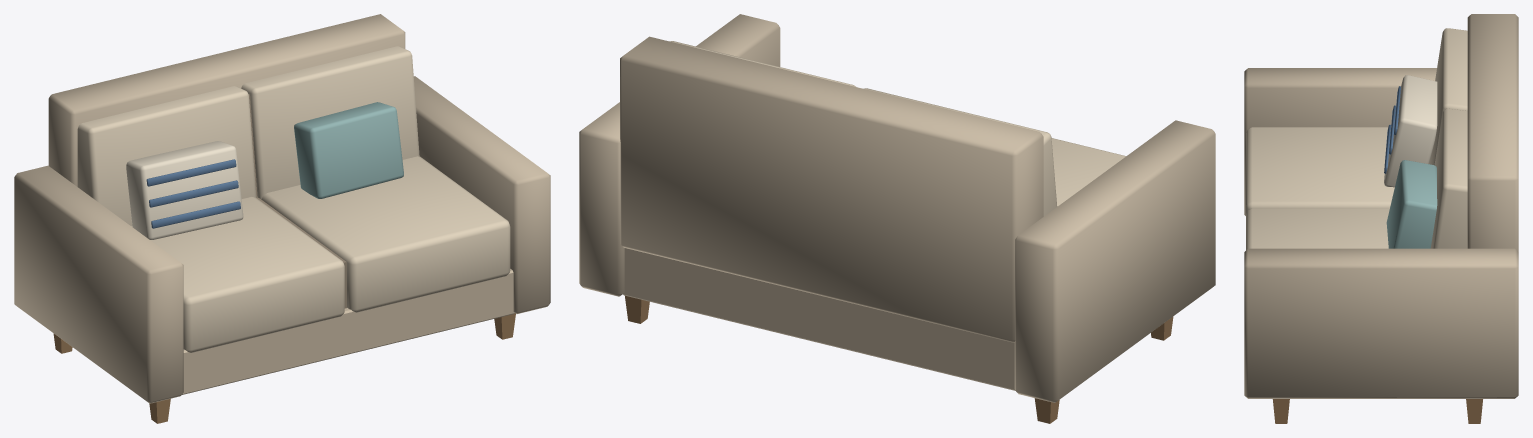
The picture shows the model from 3 angles, left to right: view 1: azimuth 30°, elevation 25°; view 2: azimuth 150°, elevation 25°; view 3: azimuth 270°, elevation 25°; orthographic projection. The views are drawn at different scales.
Parts seen in each view (by area): view 1: F002; view 2: F002; view 3: F002.
Boxes of the visible parts, left/top/right/bottom form: F002: left=14, top=14, right=550, bottom=423; F002: left=579, top=14, right=1215, bottom=423; F002: left=1244, top=14, right=1518, bottom=423.
Bounding box in the file's own units: 1.52 × 0.8636 × 0.889.
